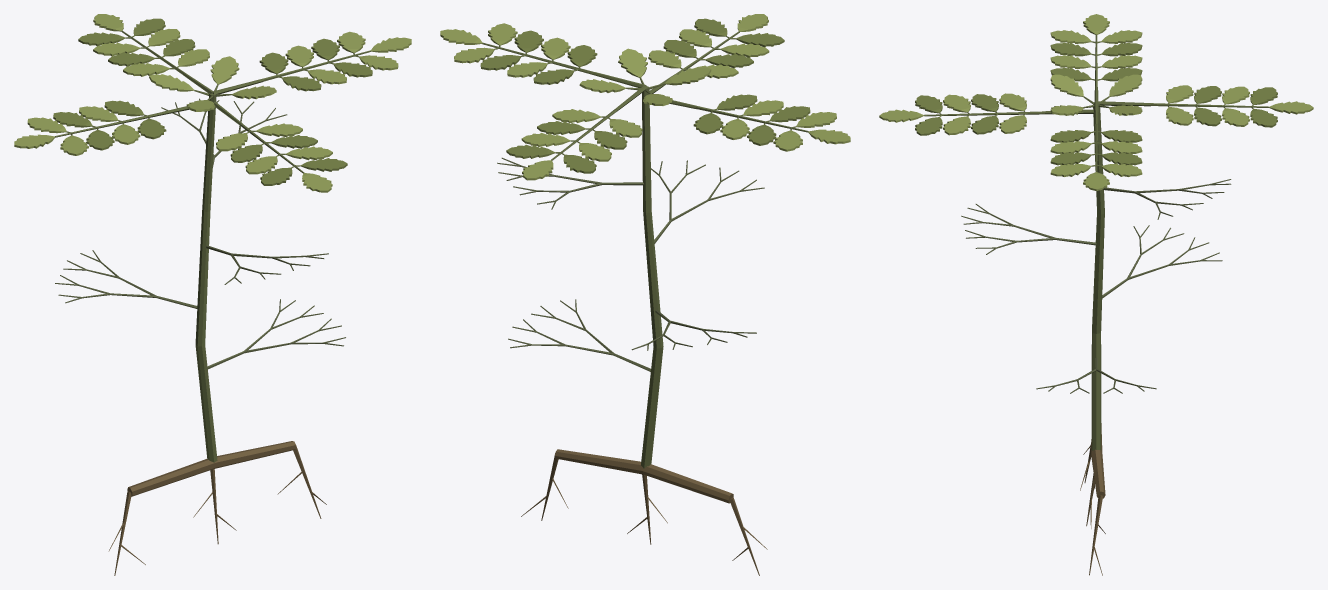
File: quereuxia.glb
3 views of the same model, side by side, from view 1: azimuth 30°, elevation 25°; view 2: azimuth 150°, elevation 25°; view 3: azimuth 270°, elevation 25° (orthographic). The views are drawn at different scales.
Parts seen in each view (by area): view 1: quereuxia-compound-floating-and-filiform-submerged-leaves; view 2: quereuxia-compound-floating-and-filiform-submerged-leaves; view 3: quereuxia-compound-floating-and-filiform-submerged-leaves.
Boxes of the visible parts, x1,y1,x2,y2 form: quereuxia-compound-floating-and-filiform-submerged-leaves: [14, 14, 411, 575]; quereuxia-compound-floating-and-filiform-submerged-leaves: [440, 14, 850, 575]; quereuxia-compound-floating-and-filiform-submerged-leaves: [879, 14, 1313, 575].
Bounding box in the file's own units: 0.0958 × 0.1066 × 0.0958.
